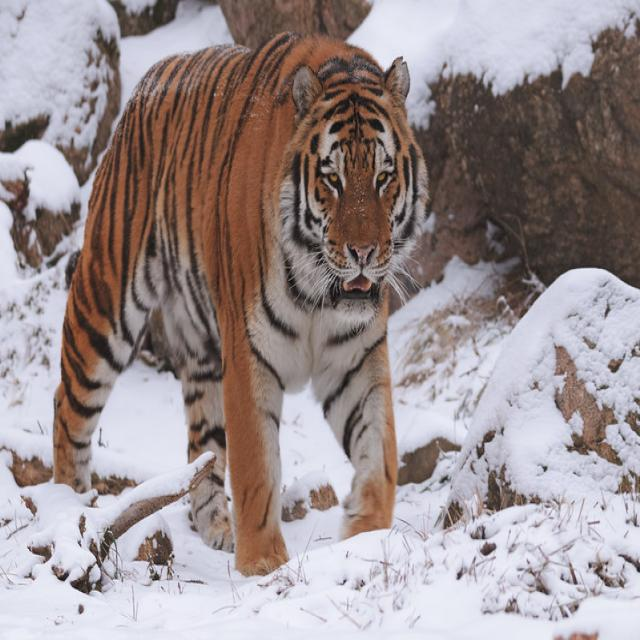Tiger: (51, 29, 426, 575)
